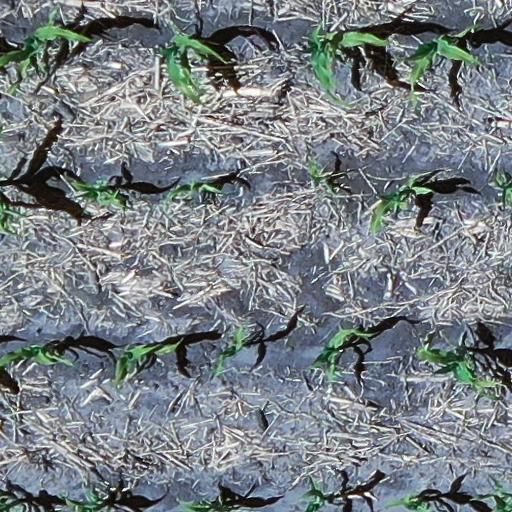planta: (306, 24, 391, 108), (159, 22, 231, 104), (417, 339, 502, 400), (400, 24, 481, 87), (370, 171, 435, 233), (306, 328, 375, 381), (114, 335, 183, 387), (207, 318, 255, 381), (70, 180, 127, 210), (162, 180, 224, 206)
